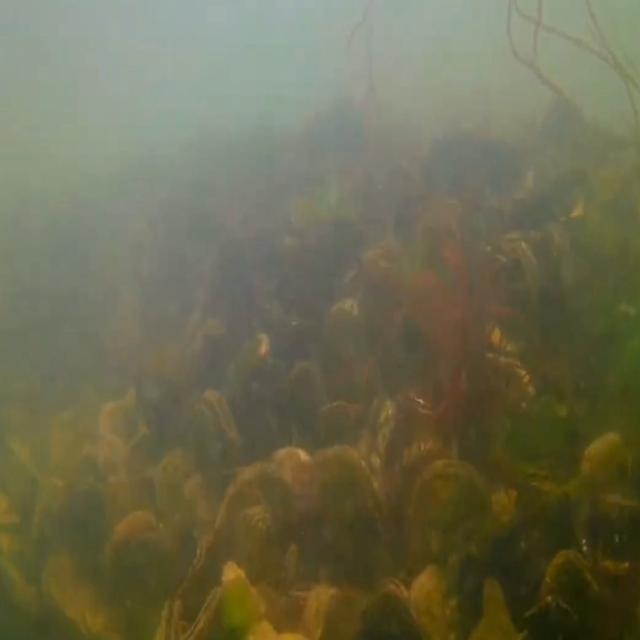Oyster-Closed: (176, 460, 317, 640), (532, 544, 605, 640), (178, 584, 250, 640), (360, 574, 419, 640)
Oyster-Indeterminate: (268, 444, 397, 640), (404, 460, 496, 640), (575, 431, 640, 584), (104, 502, 168, 640), (151, 448, 214, 584), (38, 554, 118, 640), (412, 559, 474, 640)
Oyster-Open: (182, 385, 242, 520), (362, 389, 400, 486), (154, 594, 187, 640)
